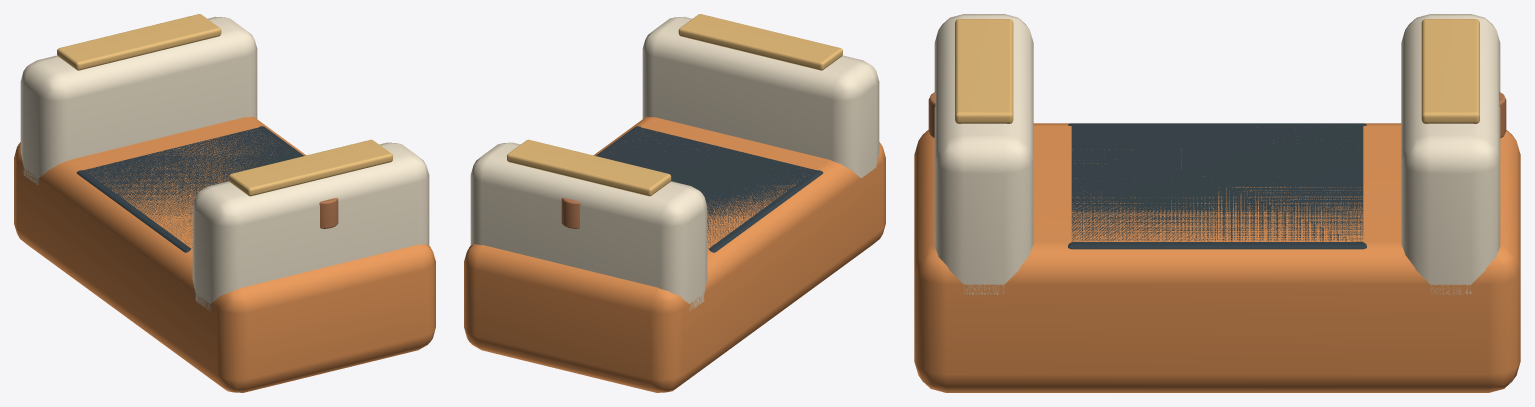
File: support_left.glb
The picture shows the model from 3 angles, left to right: view 1: azimuth 30°, elevation 25°; view 2: azimuth 150°, elevation 25°; view 3: azimuth 270°, elevation 25°; orthographic projection. The views are drawn at different scales.
Visible parts, largest first — view 1: support_left_mesh; view 2: support_left_mesh; view 3: support_left_mesh.
Part boxes in pixels (box(x1,y1,x2,y2)): support_left_mesh: box(14, 14, 435, 392); support_left_mesh: box(464, 14, 885, 392); support_left_mesh: box(914, 14, 1520, 392).
Size of the model in its own units: 0.58 by 0.504 by 1.04.
